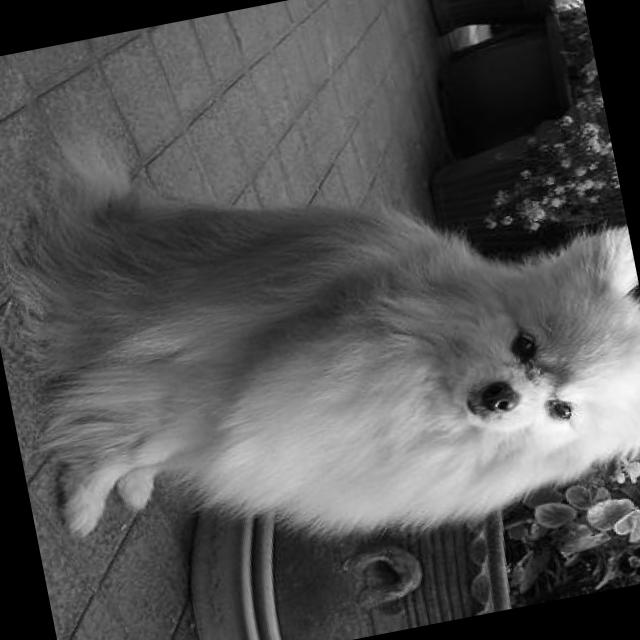sitting: (0, 36, 640, 606)
